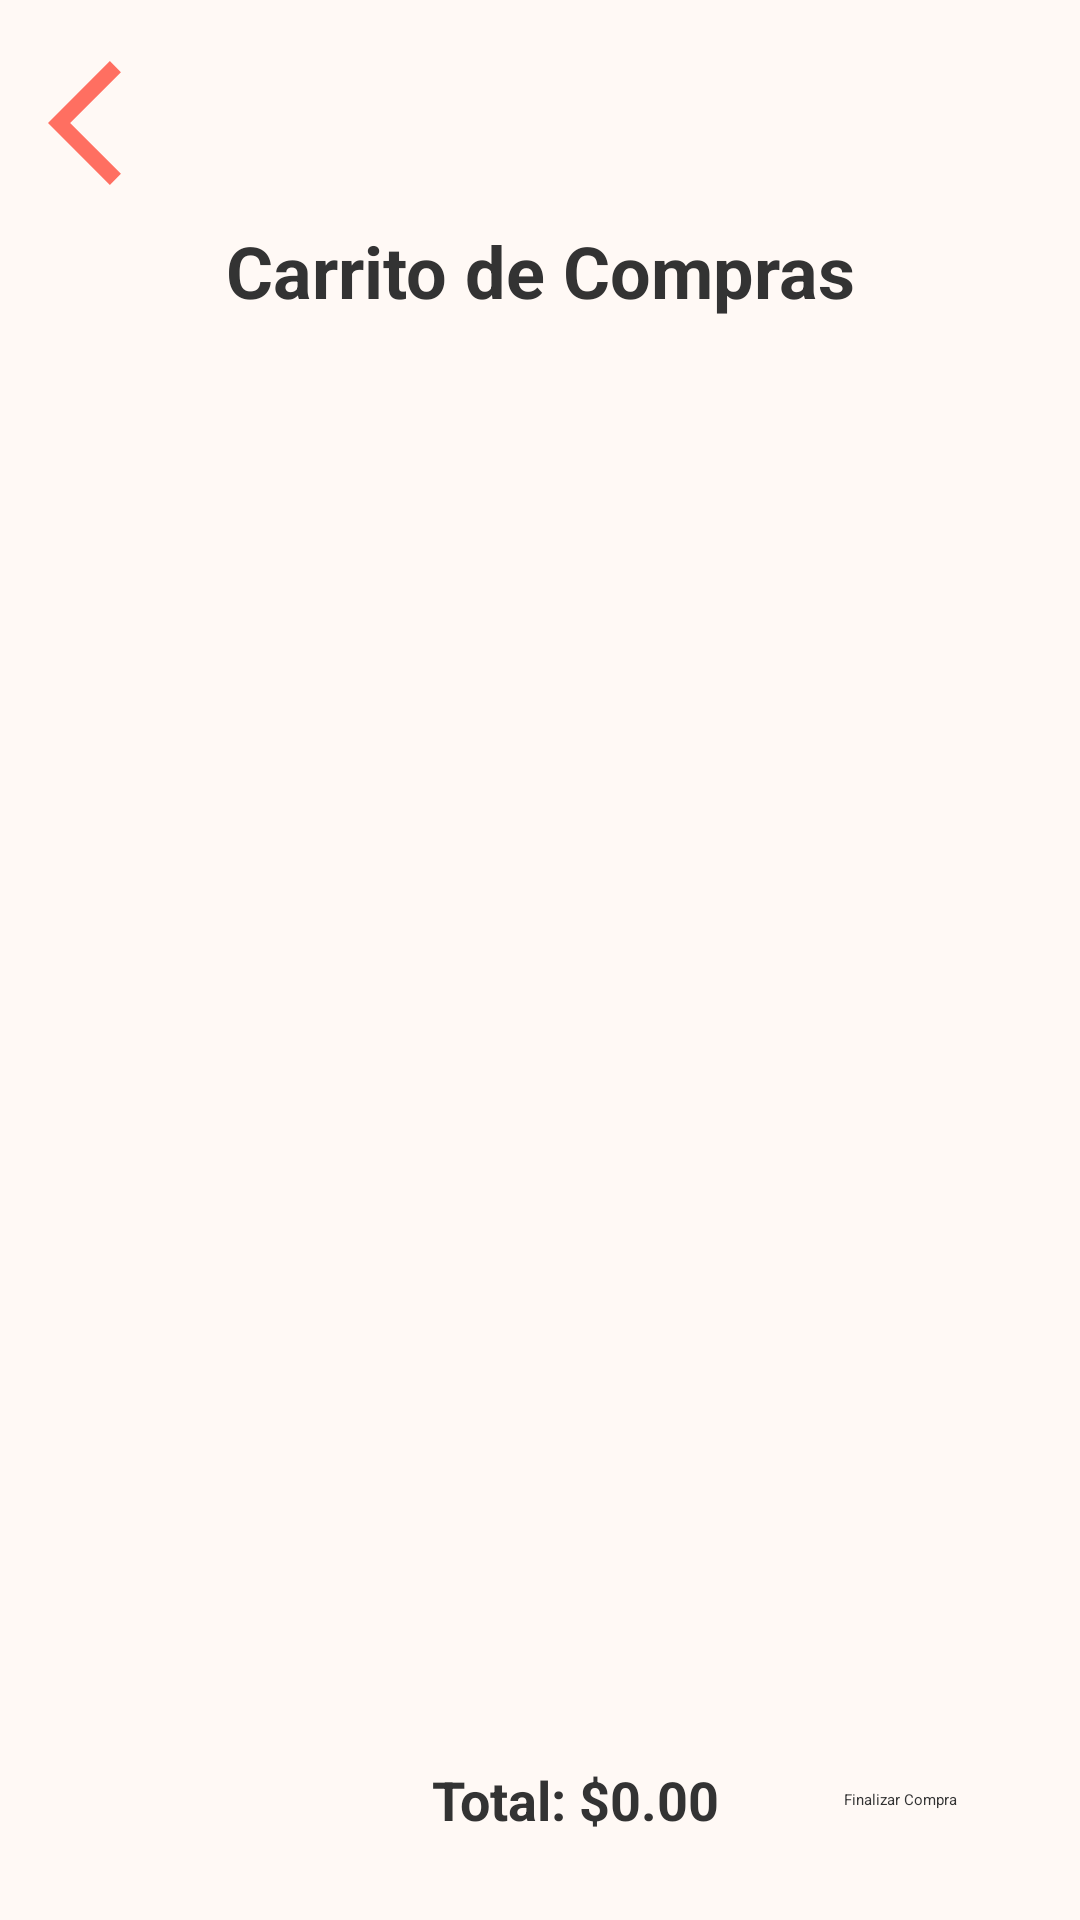

Screen size 1080px x 1920px. Icon name, then its center in pixels as (x,y):
Volver: (84,123)
